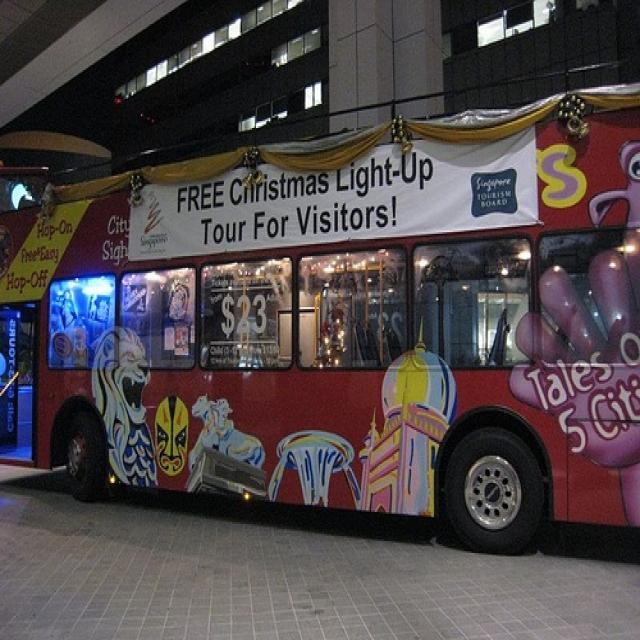bus: (2, 75, 638, 553)
